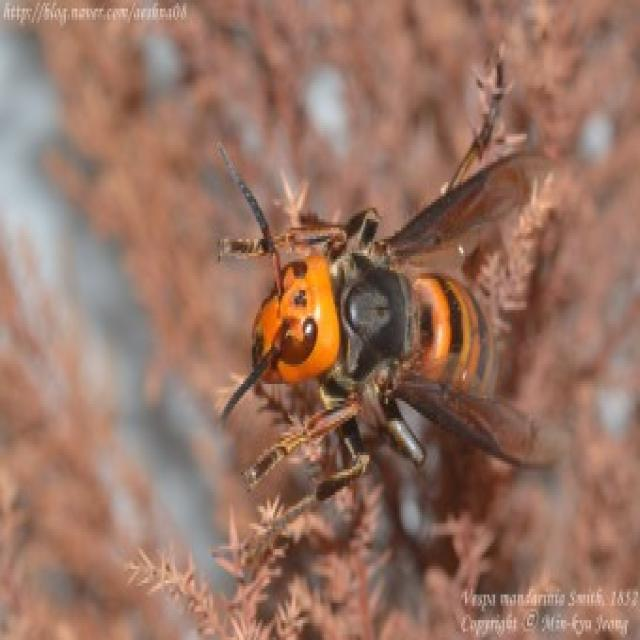Wasp: (206, 39, 557, 550)
